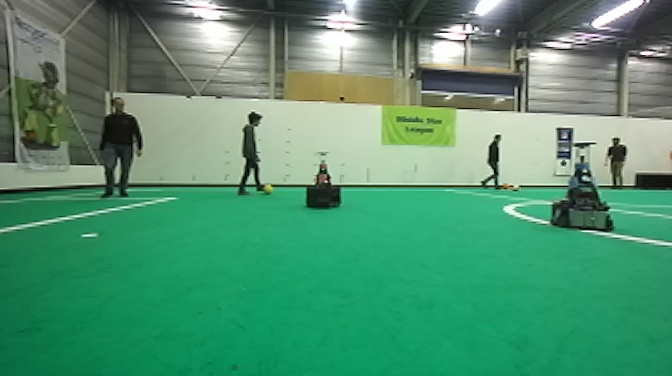ball: (263, 182, 275, 196), (509, 183, 520, 196), (500, 181, 510, 192)
human: (96, 95, 145, 200), (233, 109, 269, 198), (480, 132, 509, 191), (603, 136, 631, 190)
robot: (547, 139, 616, 235), (303, 149, 344, 212)
